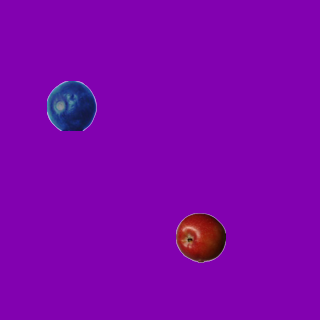Apple Braeburn: (175, 212, 225, 262)
Huckleberry: (46, 80, 96, 130)
